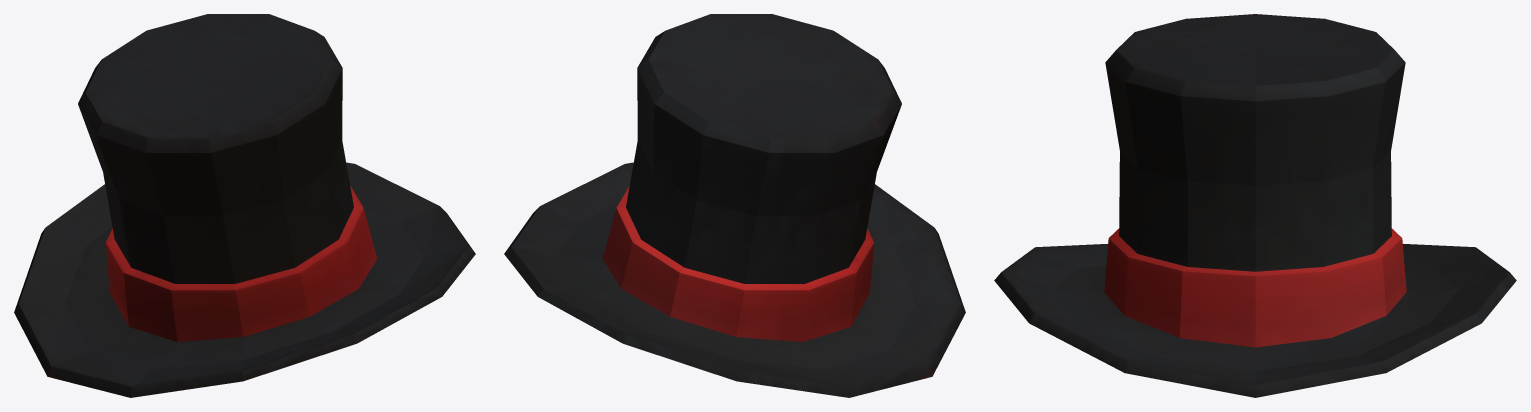
Rendered from SNOWMAN TOP HAT.fbx.
The picture shows the model from 3 angles, left to right: view 1: azimuth 30°, elevation 25°; view 2: azimuth 150°, elevation 25°; view 3: azimuth 270°, elevation 25°; orthographic projection. The views are drawn at different scales.
Parts seen in each view (by area): view 1: SNOWMAN_TOP_HAT; view 2: SNOWMAN_TOP_HAT; view 3: SNOWMAN_TOP_HAT.
Part boxes in pixels (<box>): SNOWMAN_TOP_HAT: <box>14,14,475,397</box>; SNOWMAN_TOP_HAT: <box>504,14,965,397</box>; SNOWMAN_TOP_HAT: <box>994,14,1516,397</box>.
Size of the model in its own units: 53.76 by 36.17 by 54.41.
